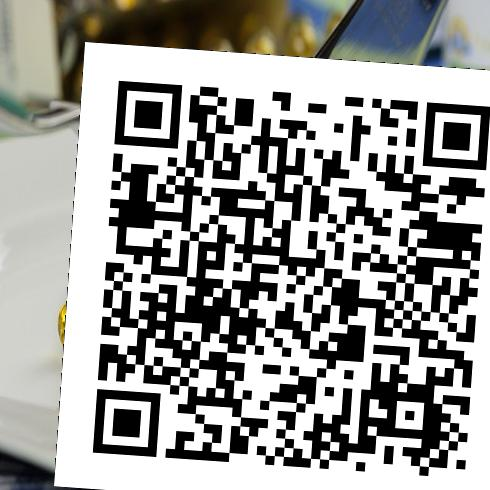qr_code: (54, 48, 489, 483)
